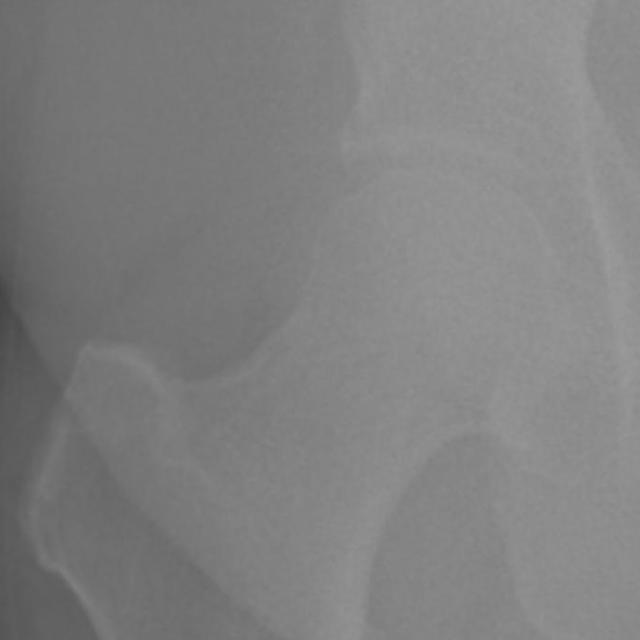Fitted_femural_head: (282, 170, 432, 282)
